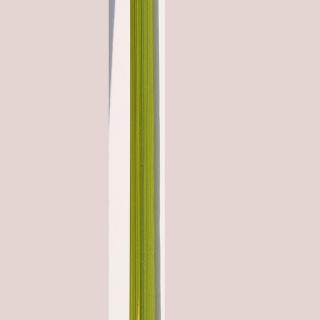Hawar-Daun: (125, 278, 152, 320)
